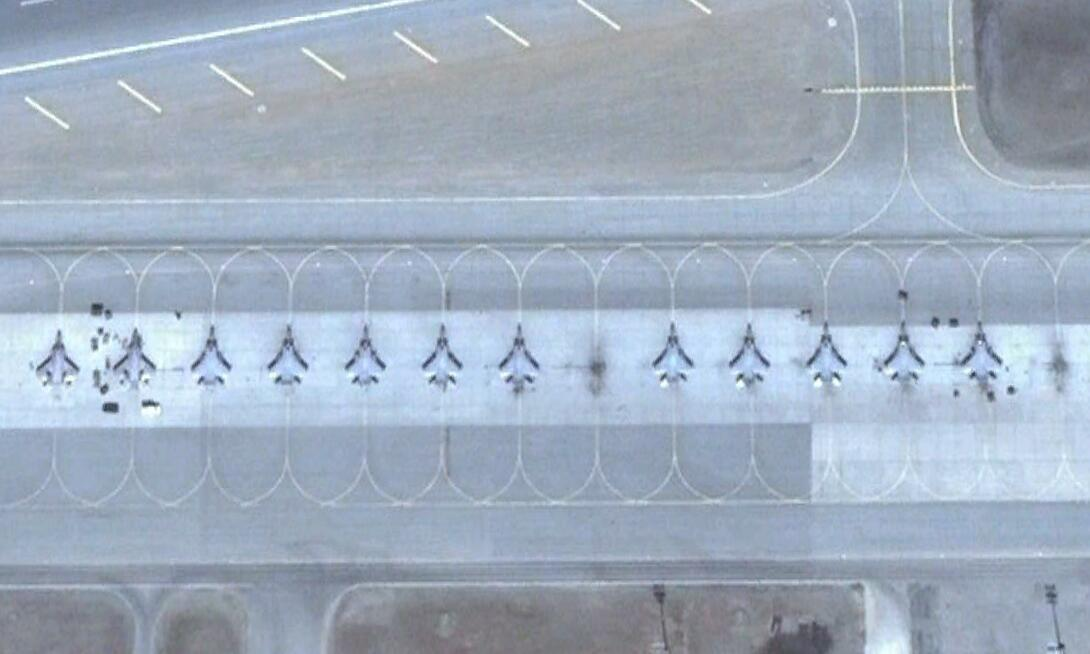A13: (878, 317, 926, 384), (803, 318, 847, 390), (498, 322, 540, 389), (652, 322, 695, 387), (729, 323, 771, 389), (345, 322, 387, 388), (267, 324, 310, 388), (419, 325, 462, 388), (961, 322, 1004, 384), (190, 324, 231, 389)
A15: (114, 326, 158, 390), (37, 331, 79, 391)
